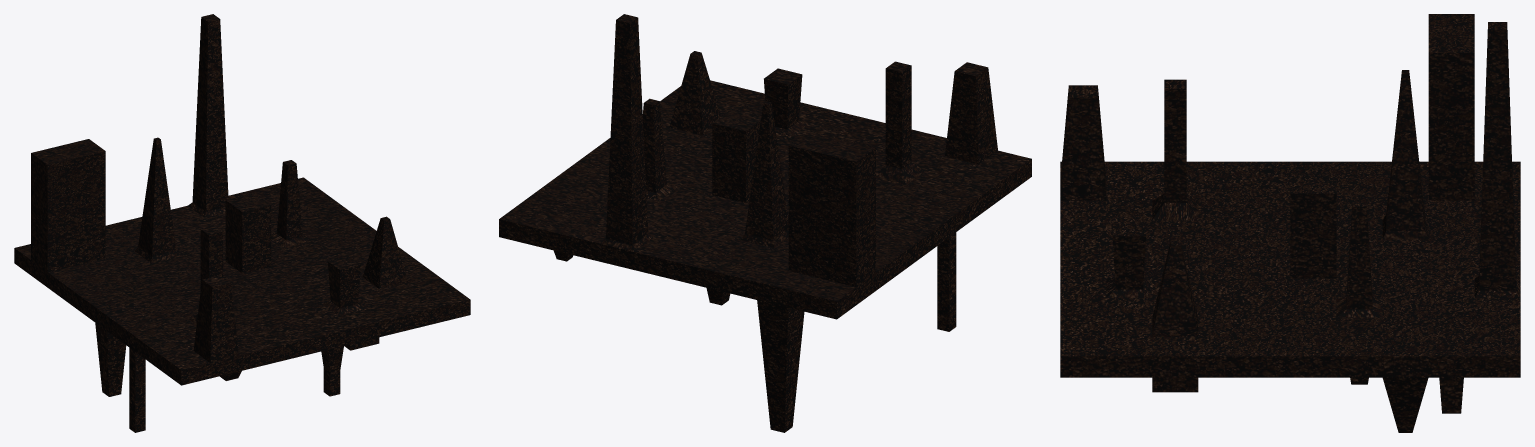
File: skyline.glb
The picture shows the model from 3 angles, left to right: view 1: azimuth 30°, elevation 25°; view 2: azimuth 150°, elevation 25°; view 3: azimuth 270°, elevation 25°; orthographic projection. The views are drawn at different scales.
Parts seen in each view (by area): view 1: Cube; view 2: Cube; view 3: Cube.
Boxes of the visible parts, bbox=[...] form: Cube: bbox=[14, 14, 470, 432]; Cube: bbox=[499, 14, 1031, 432]; Cube: bbox=[1060, 14, 1520, 432].
Bounding box in the file's own units: 15.75 × 17.42 × 15.75.
Materials: 1 (1 with a texture image).
